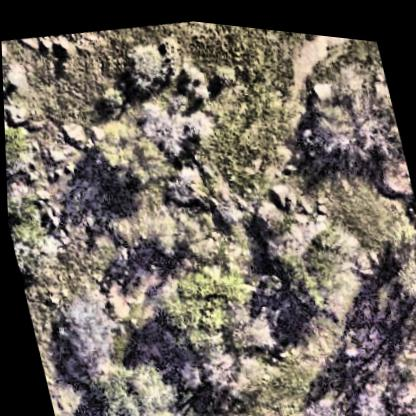tree-top: (296, 49, 407, 177), (259, 201, 371, 312), (149, 244, 253, 350), (123, 74, 222, 165), (81, 106, 172, 198), (47, 276, 128, 379), (80, 345, 185, 416), (130, 178, 216, 264), (364, 211, 416, 342), (5, 170, 60, 268), (119, 34, 176, 90), (335, 365, 391, 416), (292, 373, 343, 416), (4, 121, 38, 173)
